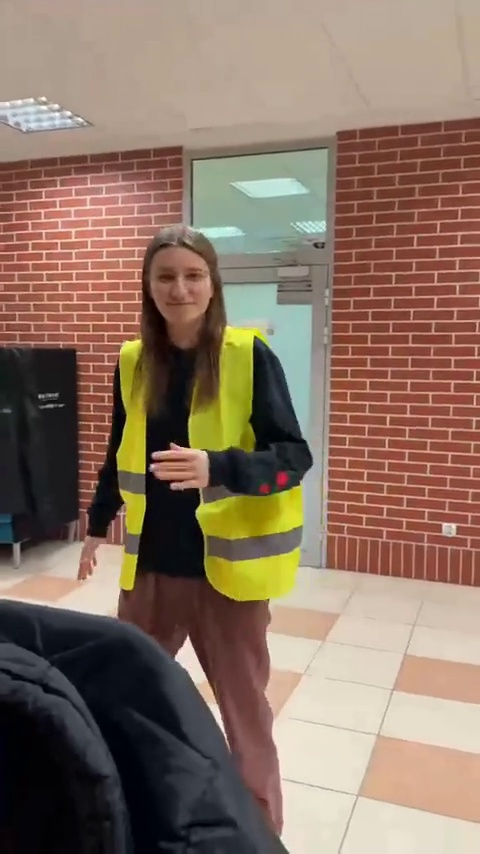vest: (86, 231, 313, 825)
